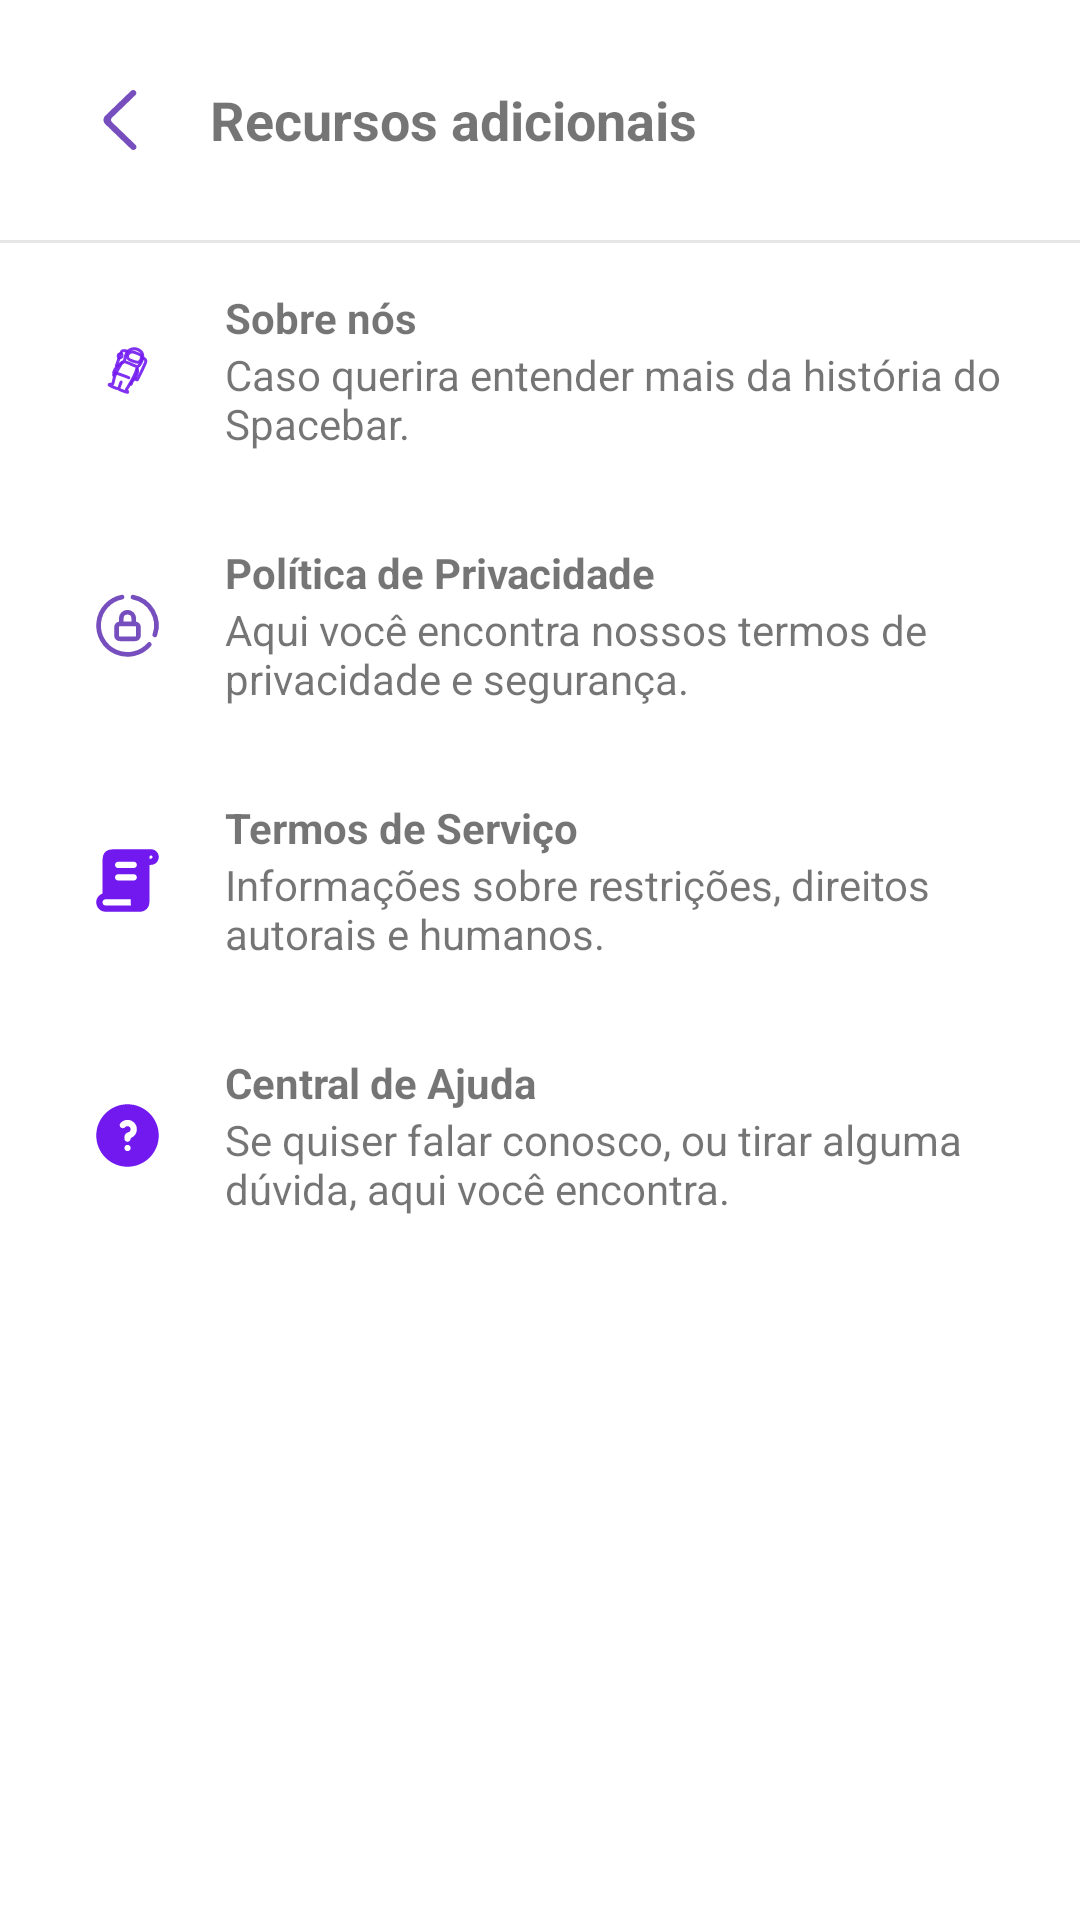

Point at icon controls on the screen. Image size 1080*1920, points as (x=x, y=y).
astronautavoando: (x=127, y=370)
help: (x=127, y=1135)
voltar: (x=120, y=120)
